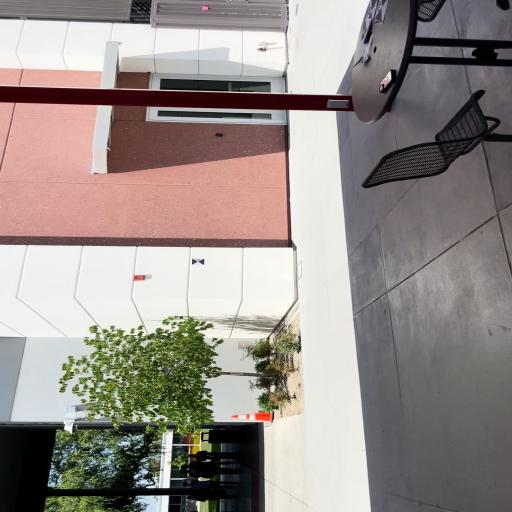target6: (192, 258, 204, 265)
